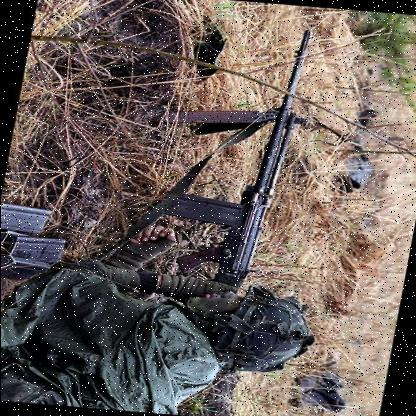rifle: (163, 22, 324, 294)
